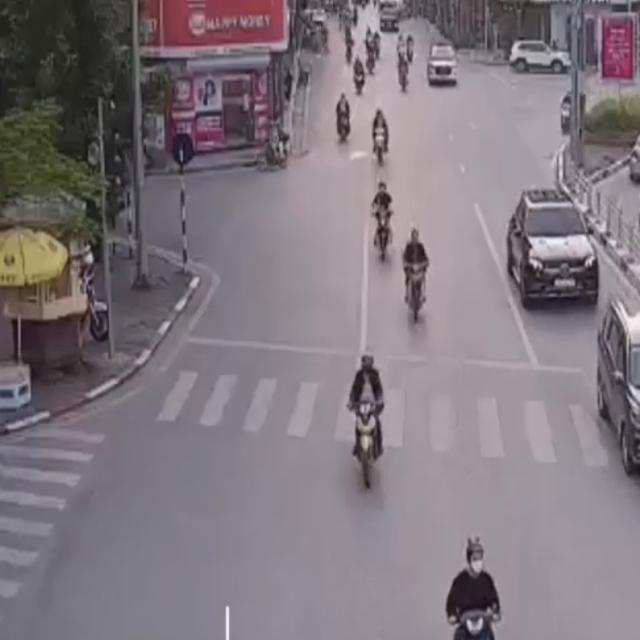car: (500, 186, 603, 314), (588, 288, 640, 482)
motorbike: (346, 343, 390, 498), (442, 531, 504, 640), (397, 226, 431, 325), (254, 118, 295, 182), (368, 178, 396, 265), (368, 104, 389, 165), (333, 89, 351, 149)
